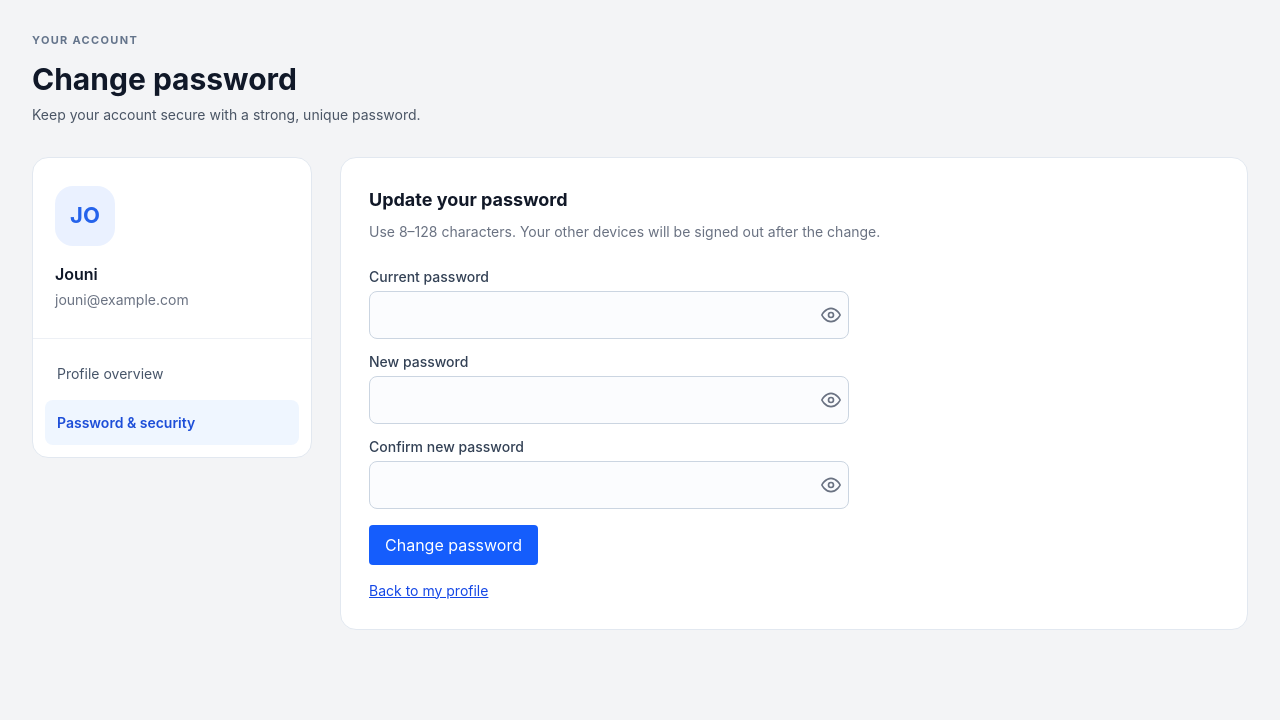
Test: changes the password, clears fields and confirms other devices are signed out
In the password field labelled "Current password": (609, 314) [369,290,849,338], type "oldpassword123"
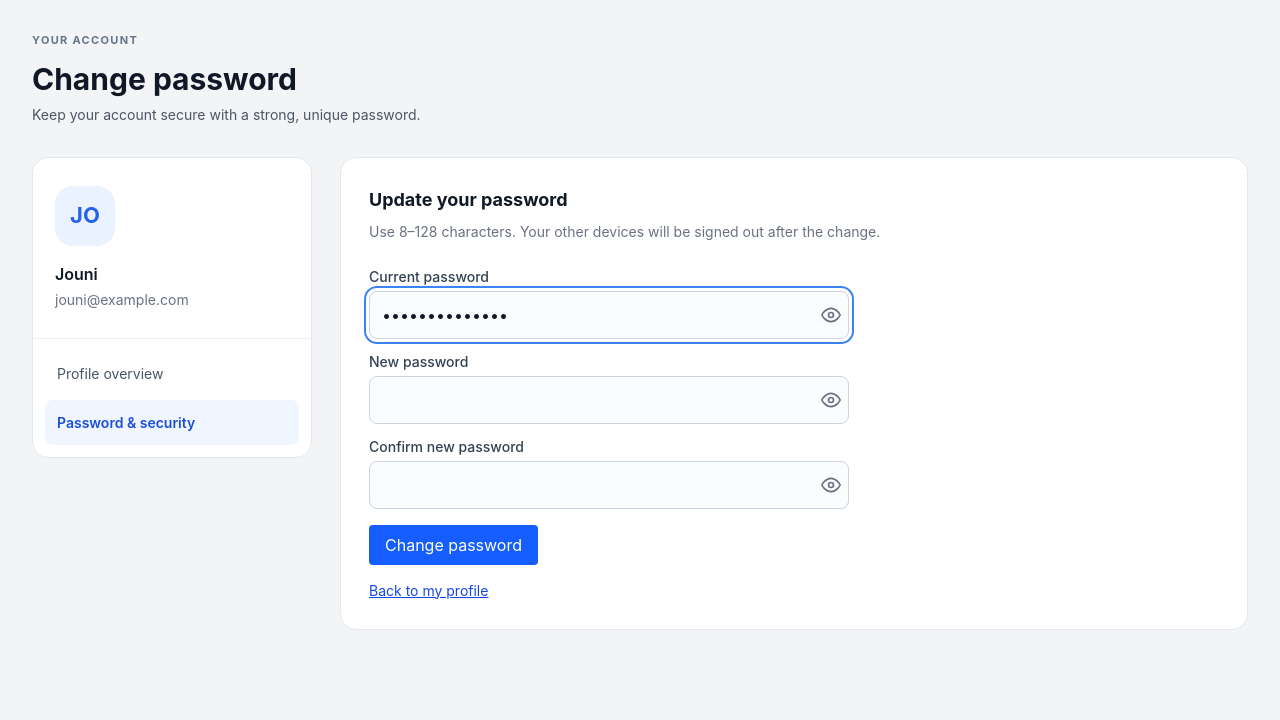
In the password field labelled "New password": (609, 400) [369,376,849,424], type "newpassword123"
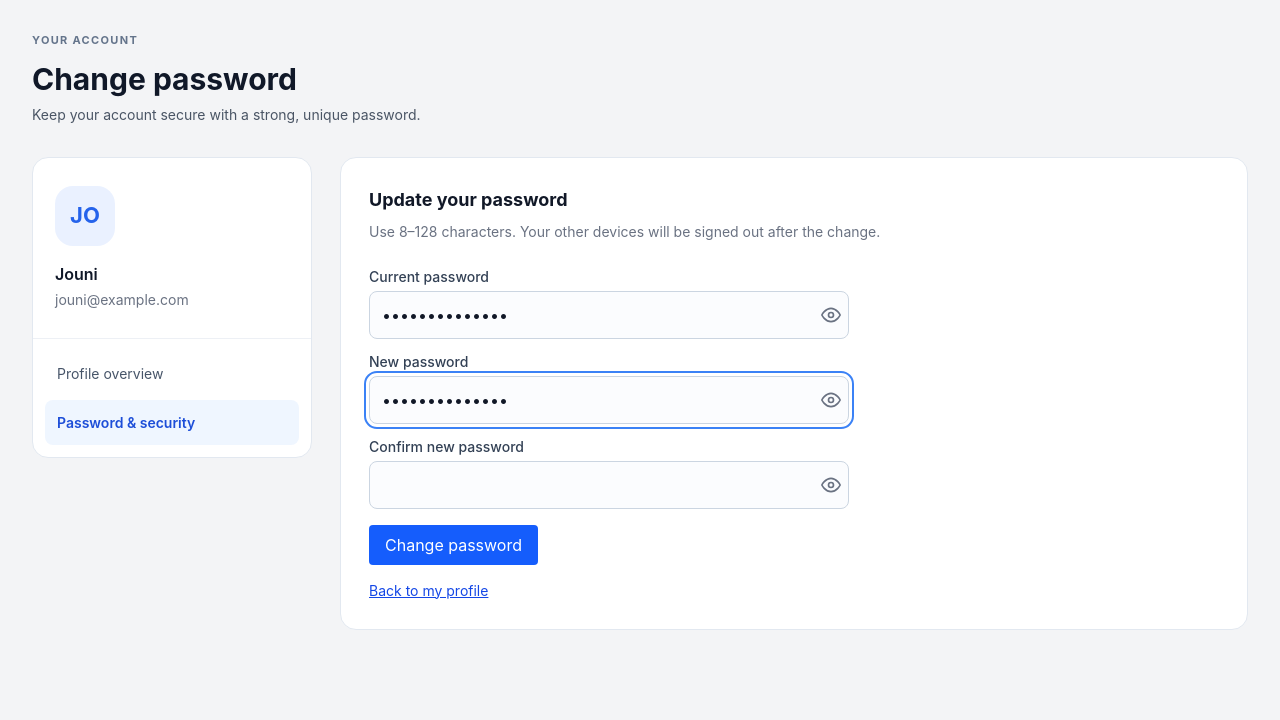
In the password field labelled "Confirm new password": (609, 484) [369,460,849,508], type "newpassword123"
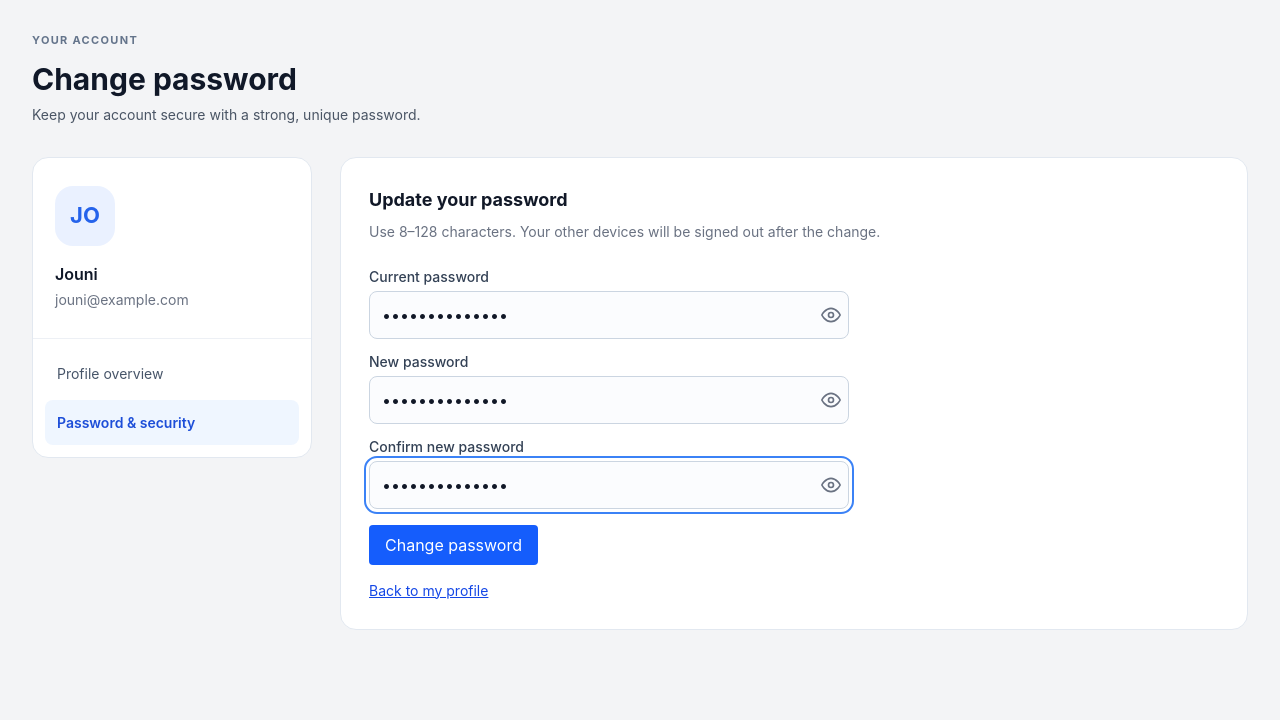
Click the button "Change password": (454, 544) [369,524,538,564]
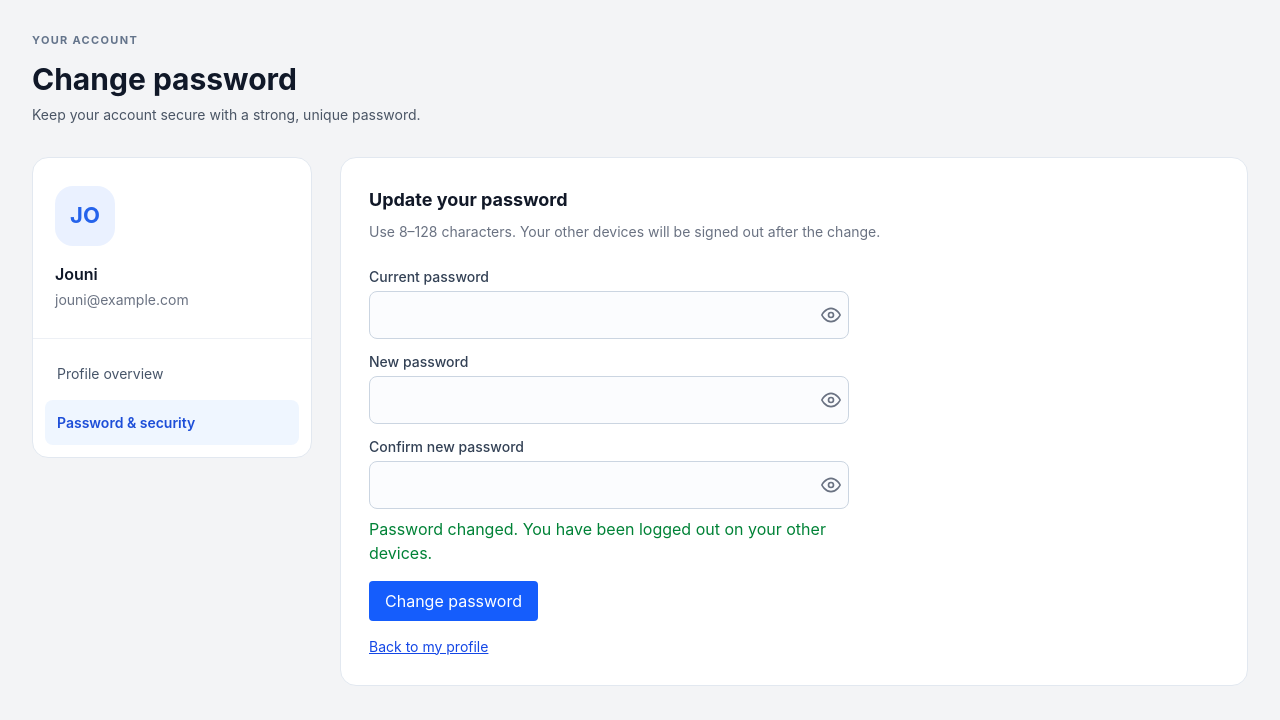
Check: the message shows "logged out on your other devices", box [369,518,826,562]
Check: the password field labelled "Current password" is empty, box [369,290,849,338]
Check: the password field labelled "New password" is empty, box [369,376,849,424]
